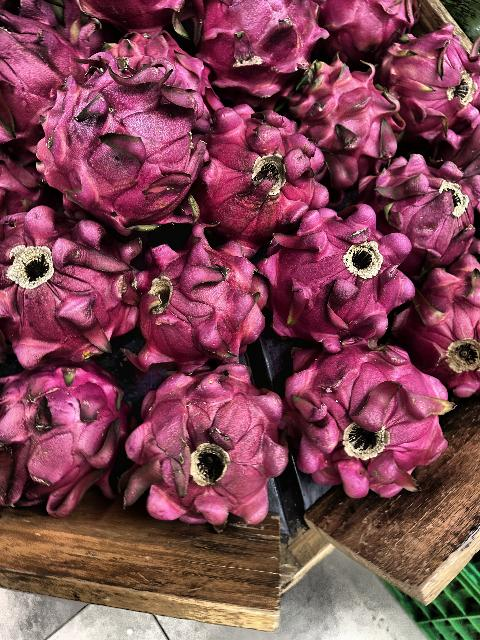buah-naga-matang: (32, 52, 202, 230), (282, 333, 454, 503), (130, 366, 288, 540), (0, 202, 142, 354), (252, 210, 416, 338), (0, 362, 126, 510), (124, 240, 264, 368), (186, 101, 328, 226), (180, 0, 318, 102), (356, 152, 478, 262), (286, 56, 388, 186), (374, 28, 480, 146), (398, 252, 480, 400)
